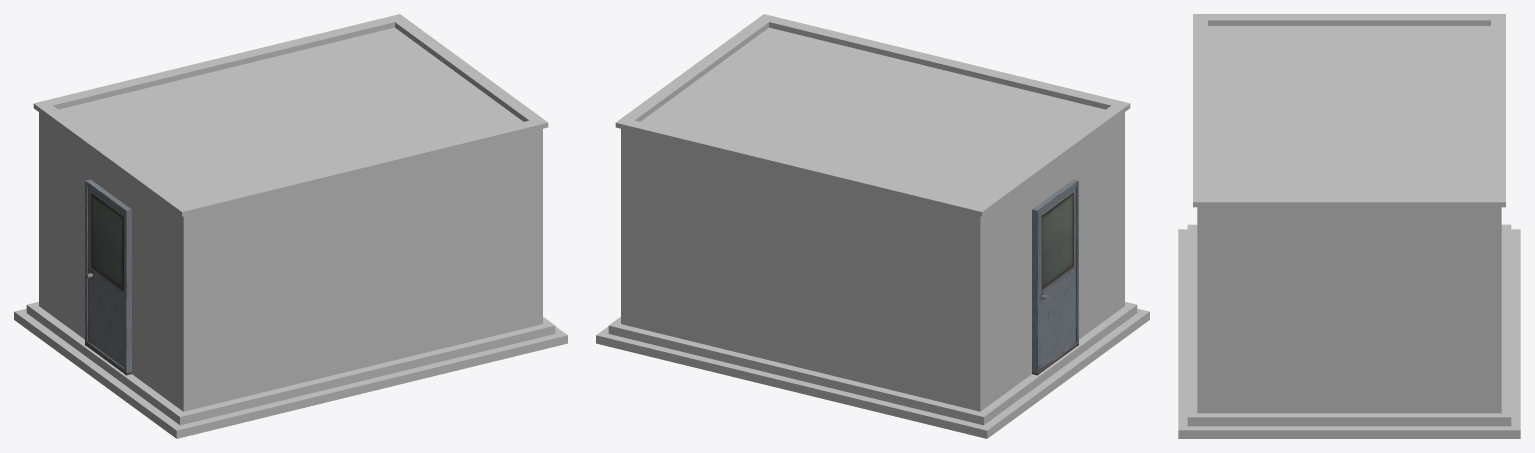
Rendered from jctRoofEntrB.fbx.
3 renders of one model, left to right at view 1: azimuth 30°, elevation 25°; view 2: azimuth 150°, elevation 25°; view 3: azimuth 270°, elevation 25°, orthographic. The views are drawn at different scales.
Parts seen in each view (by area): view 1: jctRoofEntrB; view 2: jctRoofEntrB; view 3: jctRoofEntrB.
Part boxes in pixels (x1,y1,x2,y2): jctRoofEntrB: (14, 14, 567, 438); jctRoofEntrB: (596, 14, 1149, 438); jctRoofEntrB: (1178, 14, 1520, 438).
Bounding box in the file's own units: 547 × 293 × 394.
